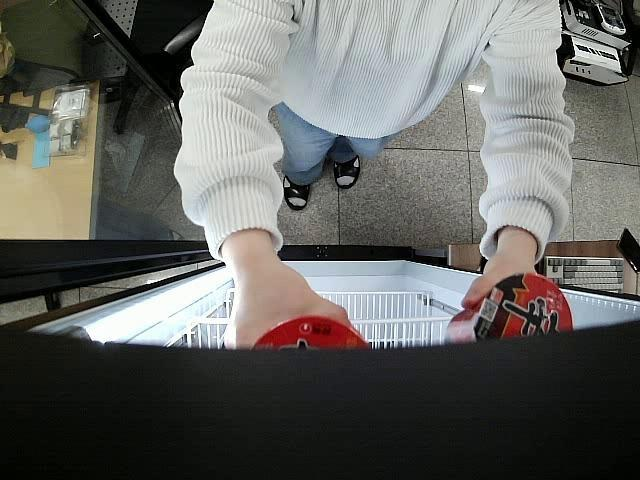02_shinRamen_S: (442, 272, 574, 344), (250, 315, 372, 351)
